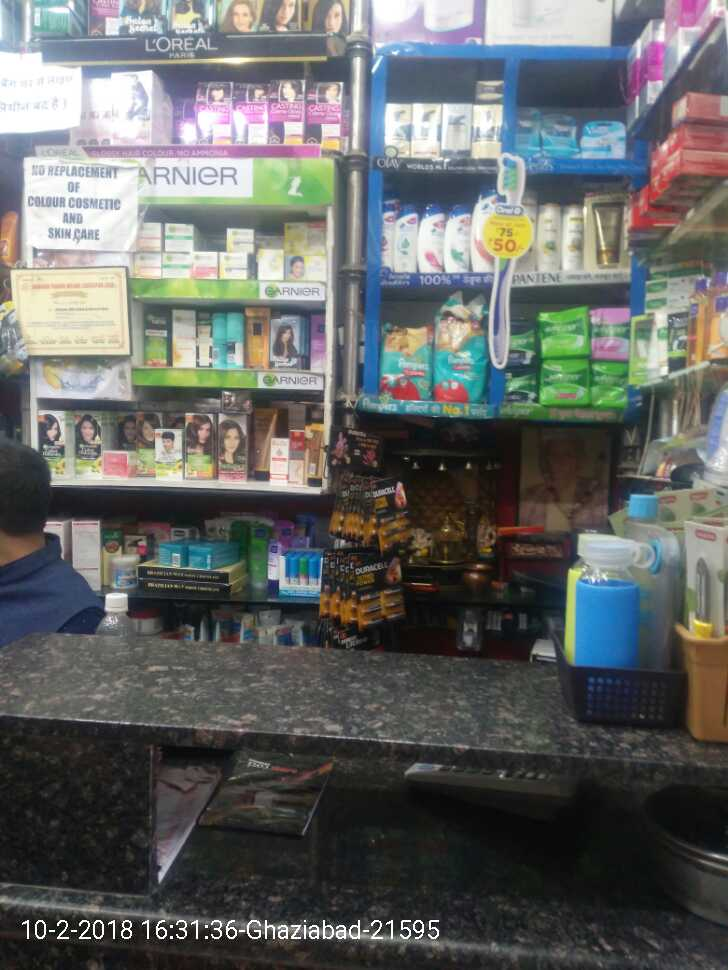venus: (542, 114, 581, 158), (581, 121, 626, 158), (516, 108, 540, 158)
